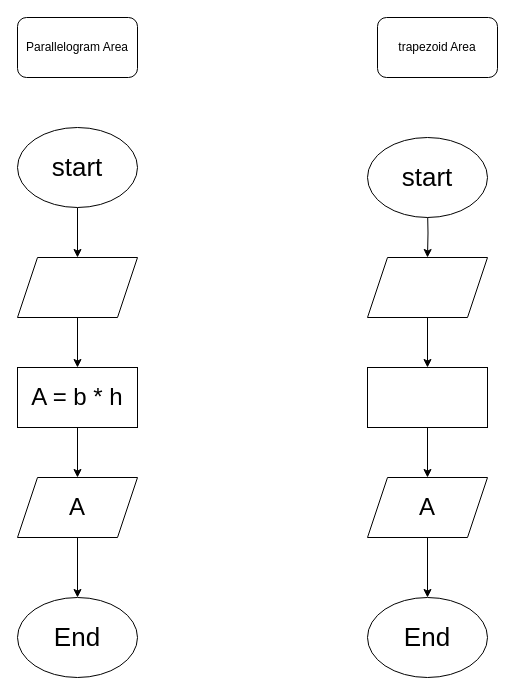
Image size: 515x695. Some labels were removed from this diagram. Here are the shapes that lost their labels. From the top down, the centre of each, then its label:
the point at 77,287: b, h
the point at 427,287: a, b, h
the point at 427,397: A= .5*(A + b)*h
